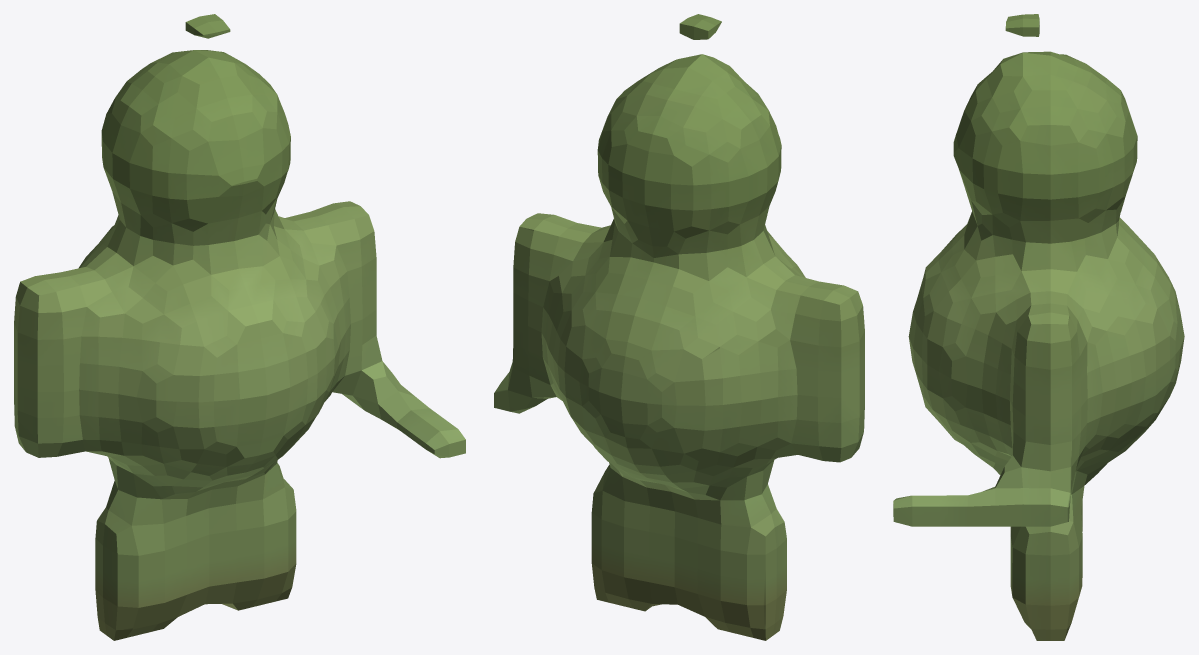
File: smallDokkaebi.glb
The picture shows the model from 3 angles, left to right: view 1: azimuth 30°, elevation 25°; view 2: azimuth 150°, elevation 25°; view 3: azimuth 270°, elevation 25°; orthographic projection. The views are drawn at different scales.
Visible parts, largest first — view 1: geometry_0; view 2: geometry_0; view 3: geometry_0.
Boxes of the visible parts, bbox=[...] form: geometry_0: bbox=[14, 14, 465, 640]; geometry_0: bbox=[494, 14, 864, 640]; geometry_0: bbox=[893, 14, 1184, 640].
Bounding box in the file's own units: 0.6186 × 0.9654 × 0.4383.
Materials: 1 (1 with a texture image).
